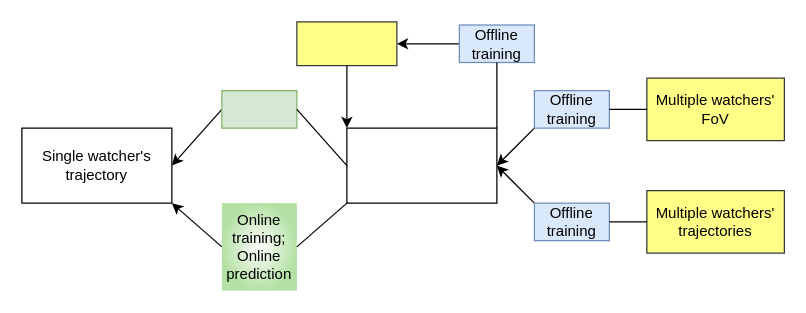
Some shapes in this 806 by 313 pixel diagram are drawn without their labels. The shapes that lost their labels are listed below. From the top down, each one's centre as x and y in pixels, then its label:
At (x=346, y=43): "ROI extract".
At (x=259, y=108): "Online prediction".
At (x=421, y=165): "Single video playback".
